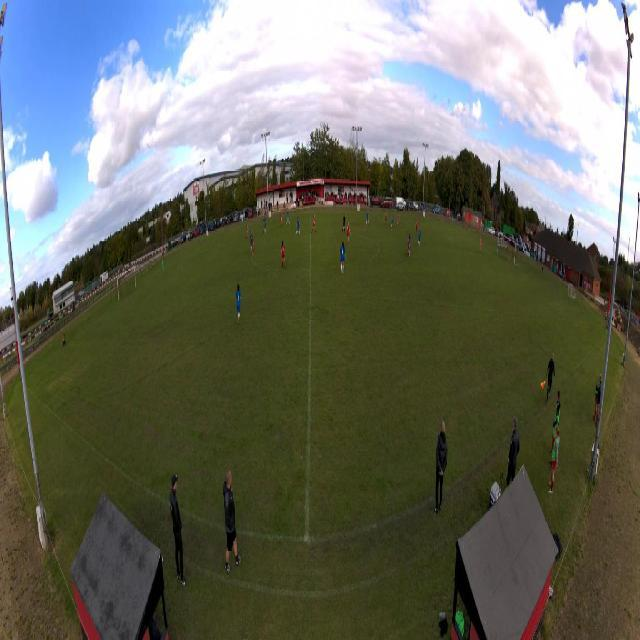ball: (409, 203, 410, 207)
player: (235, 284, 242, 326), (339, 240, 347, 274), (280, 239, 286, 270), (341, 212, 347, 236), (311, 214, 317, 236), (346, 221, 351, 247), (296, 216, 301, 237), (417, 227, 422, 248), (407, 234, 411, 258), (395, 211, 400, 229), (390, 212, 395, 229), (409, 232, 412, 258), (263, 215, 267, 234), (245, 224, 249, 243), (161, 257, 165, 276), (366, 208, 370, 226), (286, 208, 290, 226), (252, 233, 255, 257), (250, 229, 253, 253), (385, 208, 388, 226), (280, 211, 283, 229), (479, 236, 482, 254), (415, 218, 418, 235)
